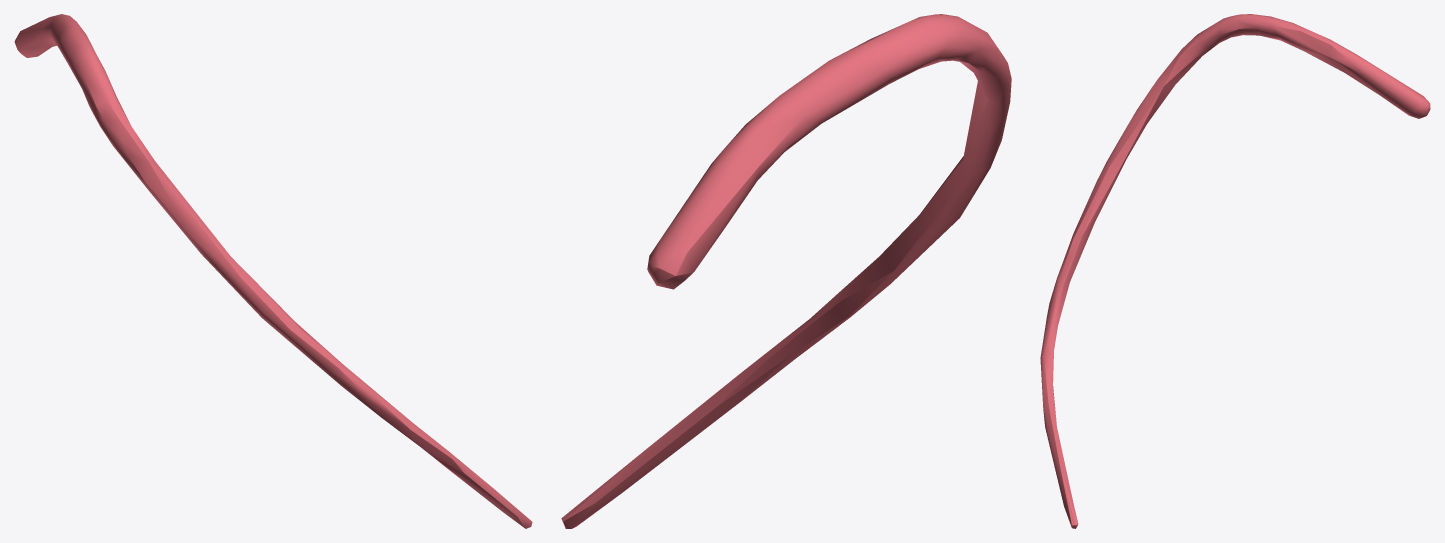
File: fma76113_fj5157.glb
3 renders of one model, left to right at view 1: azimuth 30°, elevation 25°; view 2: azimuth 150°, elevation 25°; view 3: azimuth 270°, elevation 25°, orthographic. The views are drawn at different scales.
Parts seen in each view (by area): view 1: FMA76113_FJ5157; view 2: FMA76113_FJ5157; view 3: FMA76113_FJ5157.
Boxes of the visible parts, bbox=[...] form: FMA76113_FJ5157: bbox=[14, 14, 532, 528]; FMA76113_FJ5157: bbox=[561, 14, 1011, 528]; FMA76113_FJ5157: bbox=[1040, 14, 1430, 528].
Bounding box in the file's own units: 0.0205 × 0.0266 × 0.0244.
